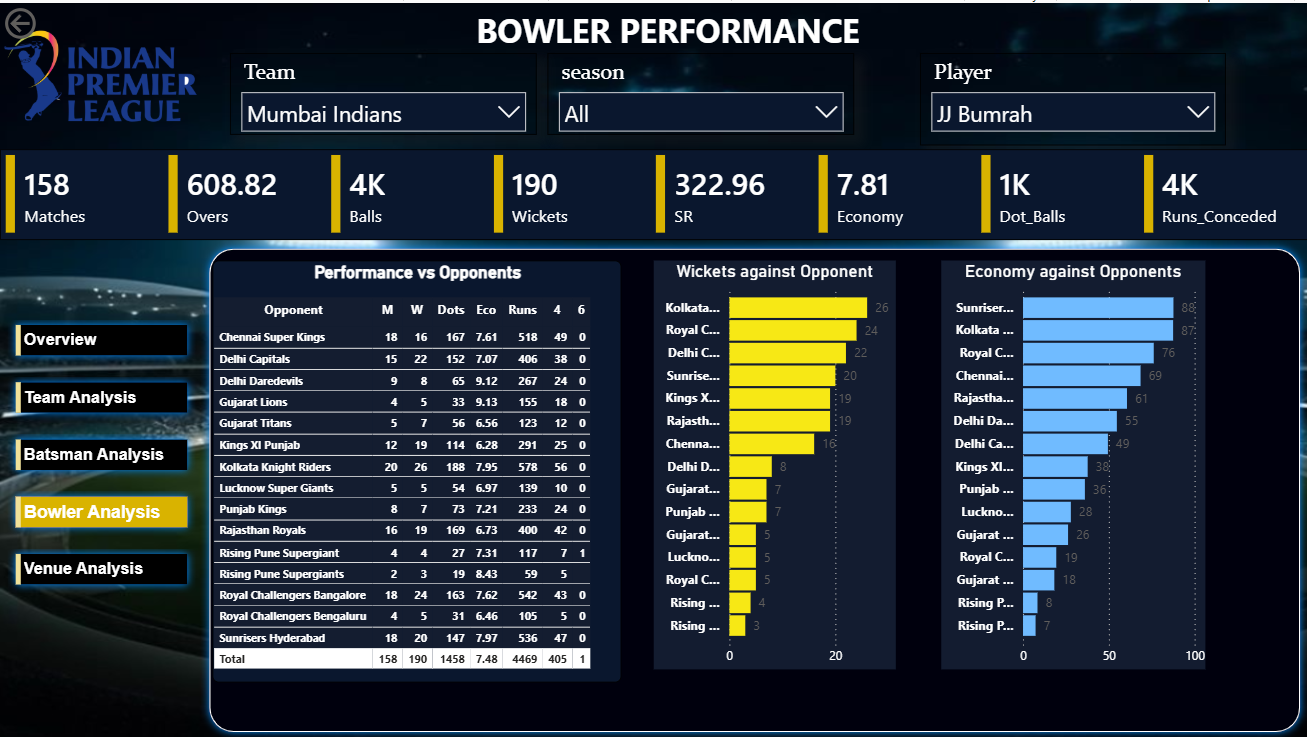

What the dashboard file says about the page in this screenshot:
{"tool":"powerbi","page":{"name":"Bowler Analysis ","canvas":[1280,720],"ordinal":3},"visuals":[{"type":"shape","box":[0,0,1280,720],"z":0},{"type":"image","box":[0,0,1280,719.3],"z":1000},{"type":"image","box":[0,0,196.9,143.1],"z":2000},{"type":"textbox","box":[461.3,0,392.6,53.5],"z":3000},{"type":"slicer","fields":{"Values":["IPL_Player_Season_Team_Records.Team"]},"box":[224.5,48.9,300,80],"z":4000},{"type":"slicer","fields":{"Values":["IPL_Player_Season_Team_Records.season"]},"box":[536.1,48.9,300,80],"z":5000},{"type":"actionButton","box":[0,0,100,40],"z":6000},{"type":"shape","box":[197,232.2,1083,488.8],"z":12000},{"type":"clusteredBarChart","title":"Wickets against Opponent","fields":{"Category":["IPL_Player_Season_Team_Opponent_Records.Opponent"],"Y":["Sum(IPL_Player_Season_Team_Opponent_Records.Total_Player_Wickets)"]},"box":[640,252,236.8,400.2],"z":13000},{"type":"clusteredBarChart","title":"Economy against Opponents","fields":{"Category":["IPL_Player_Season_Team_Opponent_Records.Opponent"],"Y":["Sum(IPL_Player_Season_Team_Opponent_Records.Economy)"]},"box":[921.1,252,258.1,400.2],"z":14000},{"type":"tableEx","title":"Performance vs Opponents","fields":{"Values":["IPL_Player_Season_Team_Opponent_Records.Opponent","Sum(IPL_Player_Season_Team_Opponent_Records.Player_Matches_Against_Opponent)","Sum(IPL_Player_Season_Team_Opponent_Records.Bowling_Wickets)","Sum(IPL_Player_Season_Team_Opponent_Records.Dot_Balls)","Avg(IPL_Player_Season_Team_Opponent_Records.Economy)","Sum(IPL_Player_Season_Team_Opponent_Records.Bowling_Runs_Conceded)","Sum(IPL_Player_Season_Team_Opponent_Records.Fours_Conceded)","Sum(IPL_Player_Season_Team_Opponent_Records.Sixes)"]},"box":[207.7,252,400.2,412.4],"z":17000},{"type":"pageNavigator","title":"CONTENT","box":[7.6,307,184.8,273.4],"z":18000},{"type":"slicer","title":"Player","fields":{"Values":["bowling_summary.bowler"]},"box":[899.7,48.9,299.4,90.1],"z":19000},{"type":"cardVisual","fields":{"Data":["Sum(IPL_Player_Season_Team_Records.Matches)","Sum(IPL_Player_Season_Team_Records.Overs)","Sum(IPL_Player_Season_Team_Records.Bowling_Balls)","Sum(IPL_Player_Season_Team_Records.Bowling_Wickets)","Sum(IPL_Player_Season_Team_Records.Bowling_Strike_Rate)","Avg(IPL_Player_Season_Team_Records.Economy)","Sum(IPL_Player_Season_Team_Records.Dot_Balls)","Sum(IPL_Player_Season_Team_Records.Bowling_Runs_Conceded)"]},"box":[0,143.6,1280,88.6],"z":20000}]}

Visuals, with their boxes in screenshot pixels (x1, y1, x2, y2), scaled from the page's 1280x720 canvas onto the 1307x737 screenshot:
shape: l=0, t=0, r=1306, b=736
image: l=0, t=0, r=1306, b=736
image: l=0, t=0, r=201, b=146
textbox: l=471, t=0, r=872, b=55
slicer - IPL_Player_Season_Team_Records.Team: l=229, t=50, r=536, b=132
slicer - IPL_Player_Season_Team_Records.season: l=547, t=50, r=854, b=132
actionButton: l=0, t=0, r=102, b=41
shape: l=201, t=238, r=1306, b=736
"Wickets against Opponent" clusteredBarChart: l=654, t=258, r=895, b=668
"Economy against Opponents" clusteredBarChart: l=941, t=258, r=1204, b=668
"Performance vs Opponents" tableEx: l=212, t=258, r=621, b=680
"CONTENT" pageNavigator: l=8, t=314, r=196, b=594
"Player" slicer: l=919, t=50, r=1224, b=142
cardVisual - Sum(IPL_Player_Season_Team_Records.Matches) x Sum(IPL_Player_Season_Team_Records.Overs): l=0, t=147, r=1306, b=238
